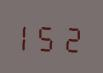five: (40, 19, 60, 53)
one: (18, 18, 38, 52)
two: (61, 20, 81, 54)
